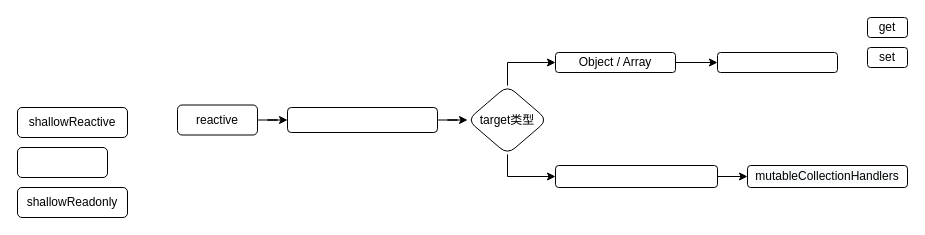
This 925x235 diagram has some shape labels left out. Here are the shapes that lost their labels. From the top down, the centre of each, then its label:
At (777,62): "mutableHandlers".
At (362,119): "createReactiveObject".
At (62,162): "readonly".
At (636,176): "set / map / weakMap/set".
